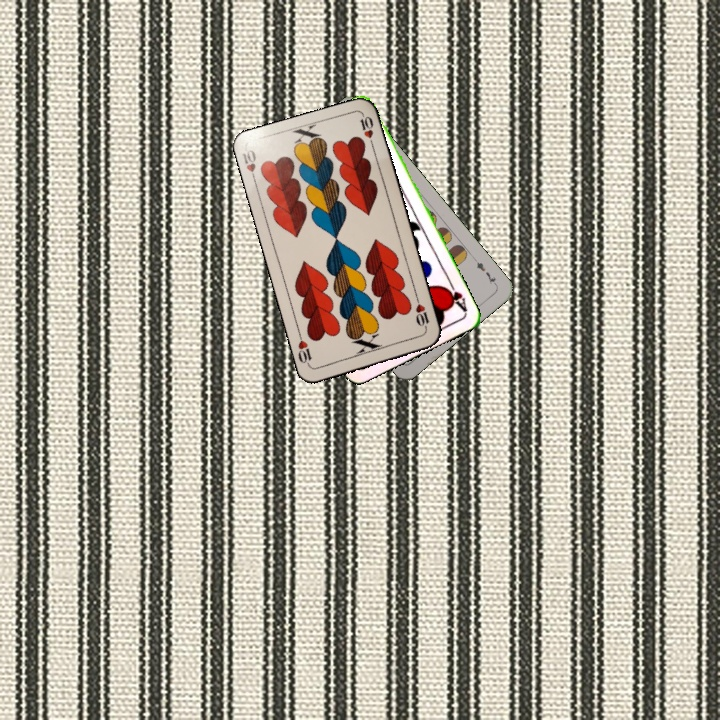E7: (470, 254, 500, 288)
H10: (238, 145, 261, 186), (411, 293, 432, 333)
HA: (440, 277, 470, 315)
